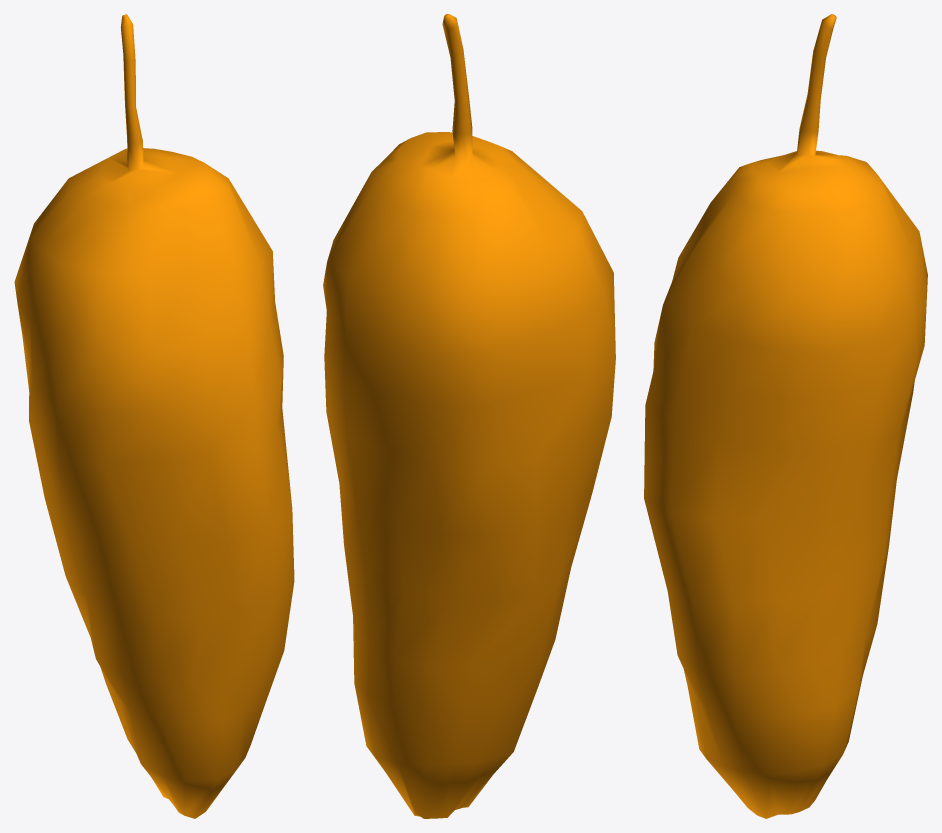
The model's file is Zanahoria.fbx.
3 renders of one model, left to right at view 1: azimuth 30°, elevation 25°; view 2: azimuth 150°, elevation 25°; view 3: azimuth 270°, elevation 25°, orthographic. The views are drawn at different scales.
Visible parts, largest first — view 1: RetopoFlow.001; view 2: RetopoFlow.001; view 3: RetopoFlow.001.
Boxes of the visible parts, x1,y1,x2,y2 form: RetopoFlow.001: (14,14,294,818); RetopoFlow.001: (323,14,615,818); RetopoFlow.001: (644,14,927,818).
Bounding box in the file's own units: 79.81 × 256 × 84.35.
